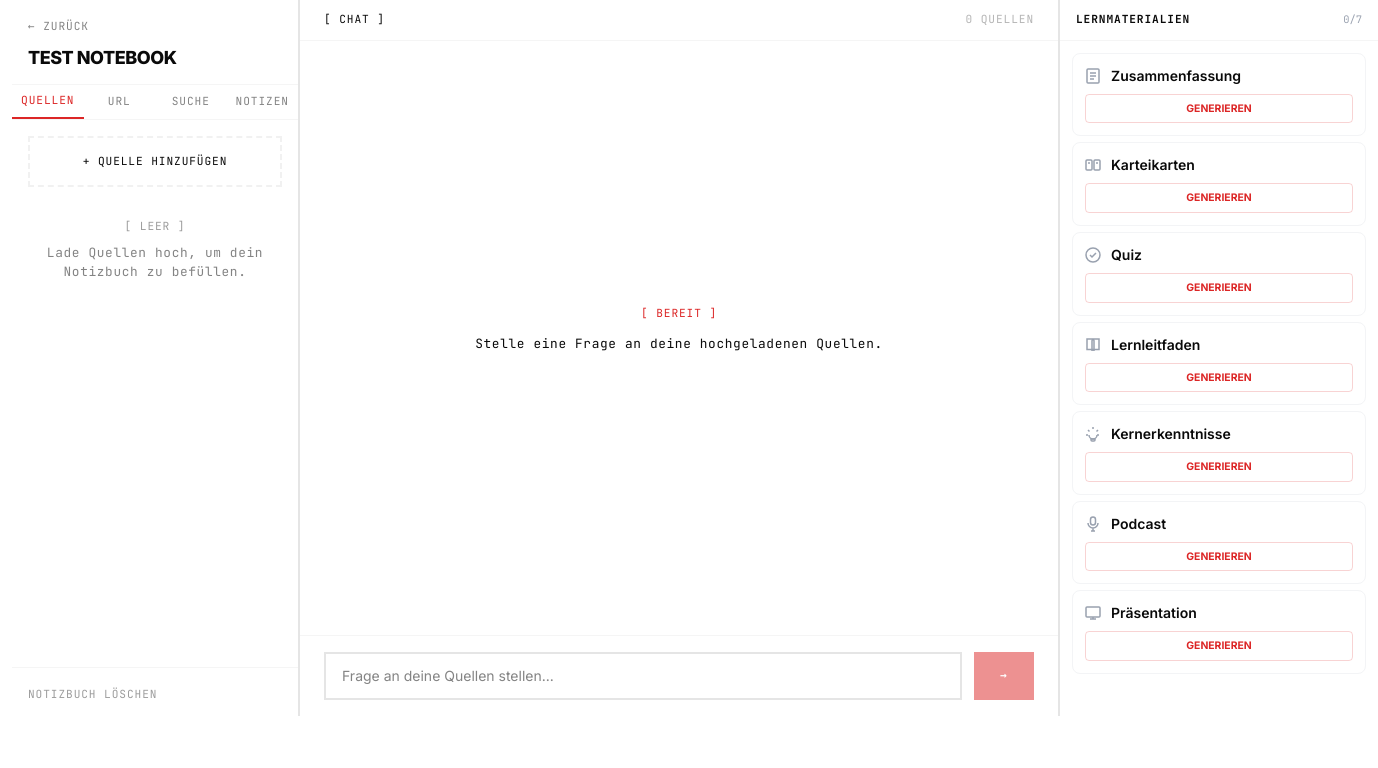
NotebookPage - tabs › renders URL input when URL tab clicked
Click the button "URL".
click(119, 102)  # box [84,85,155,119]
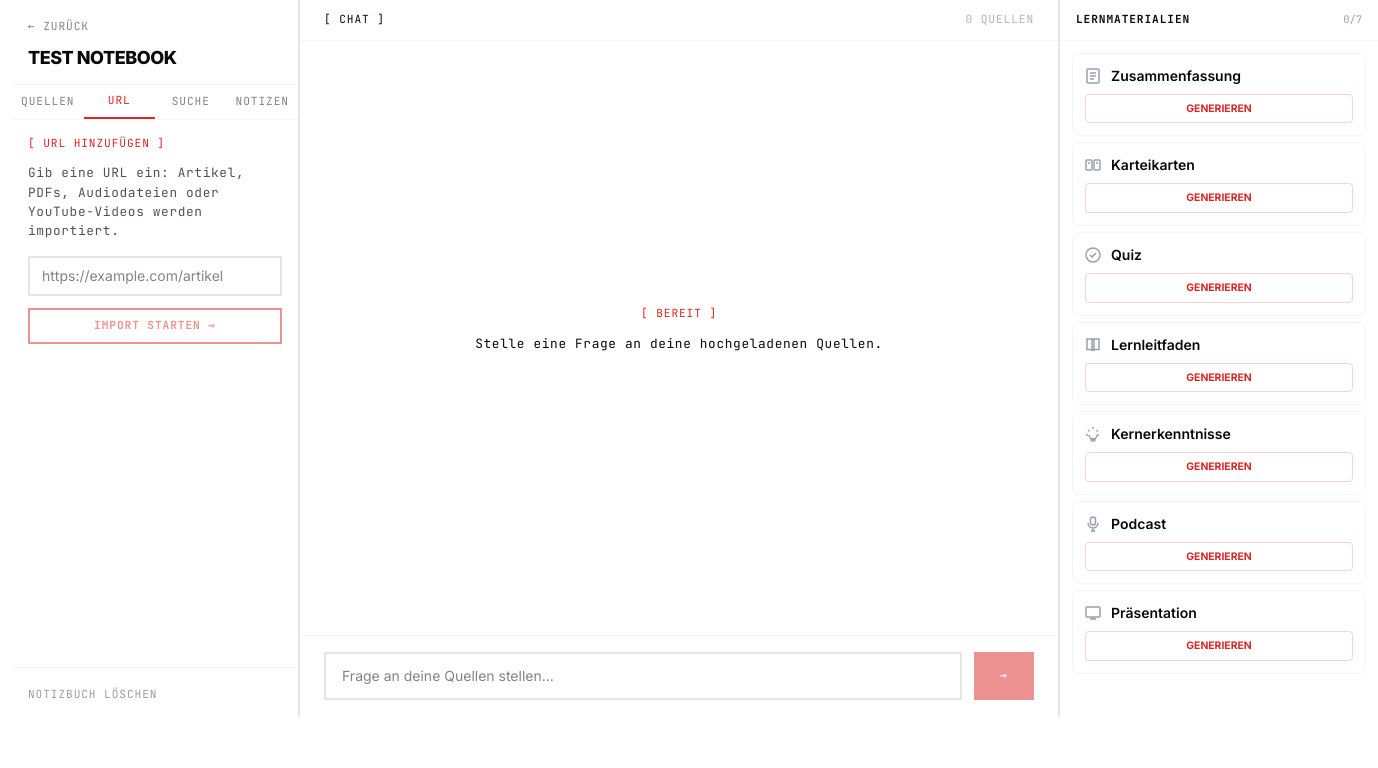
Now the field with placeholder "https://example.com/artikel" is shown, box [28,256,282,296]
